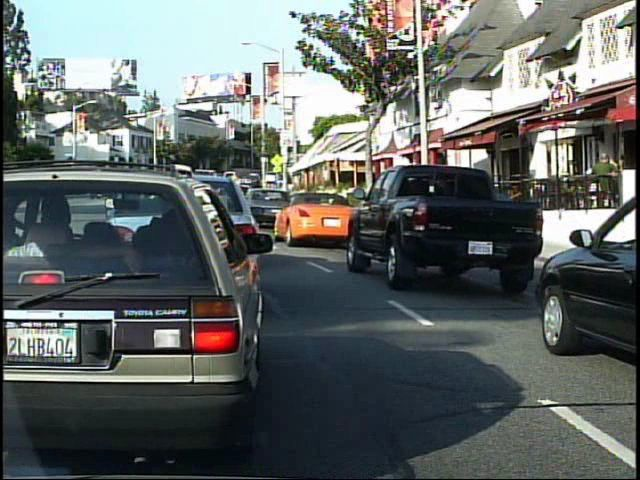person: (588, 145, 622, 227)
